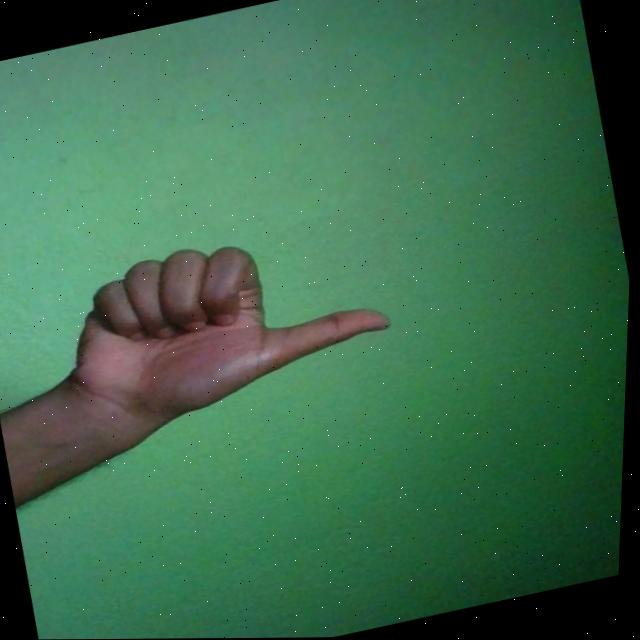Good Job: (47, 209, 405, 435)
